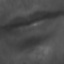MouthFatigue: (1, 6, 64, 52)
